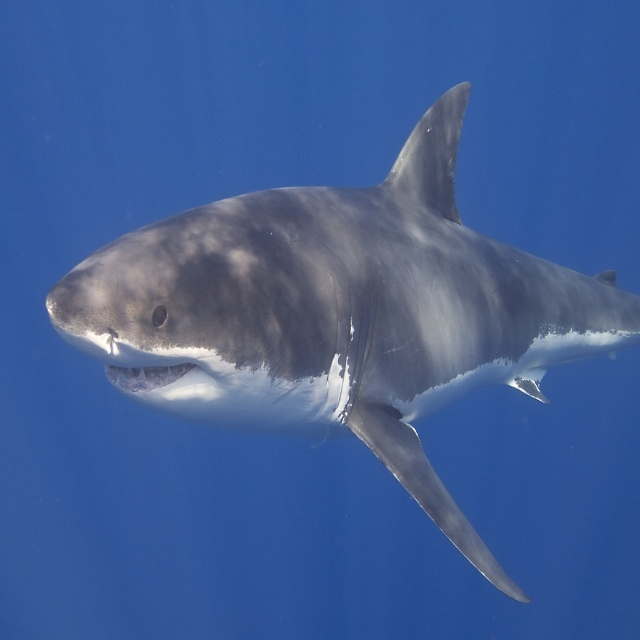Shark: (42, 80, 640, 602)
